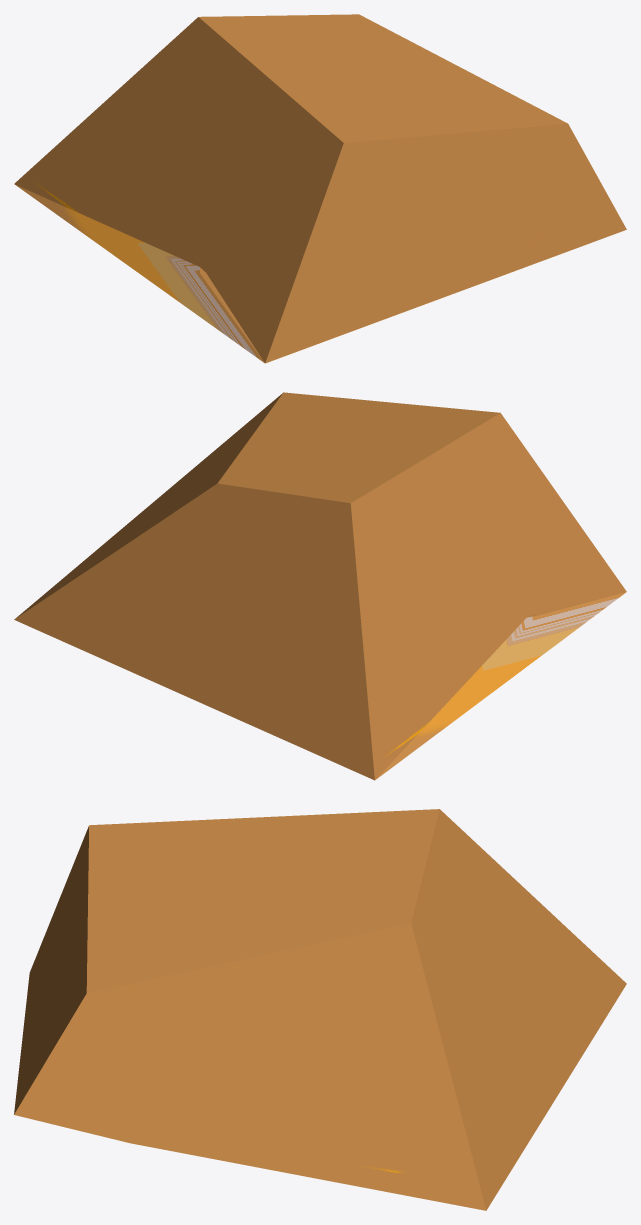
Rendered from pansuperior.glb.
3 renders of one model, top to bottom at view 1: azimuth 30°, elevation 25°; view 2: azimuth 150°, elevation 25°; view 3: azimuth 270°, elevation 25°, orthographic. The views are drawn at different scales.
Parts seen in each view (by area): view 1: PanSuperior; view 2: PanSuperior; view 3: PanSuperior.
Part boxes in pixels (<box>): PanSuperior: <box>14,14,626,363</box>; PanSuperior: <box>14,392,626,780</box>; PanSuperior: <box>14,809,626,1210</box>.
Size of the model in its own units: 3.07 by 1.36 by 3.21.
1 material, 1 textured.
